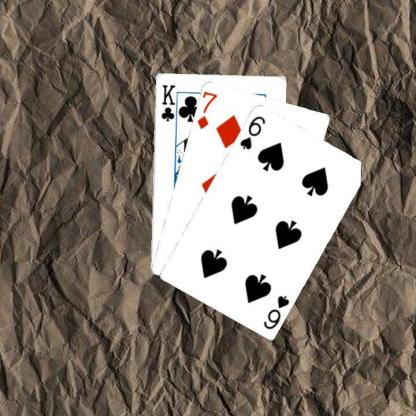6S: (237, 112, 267, 150), (260, 292, 290, 330)
7D: (195, 89, 218, 130)
KC: (158, 82, 180, 127)
